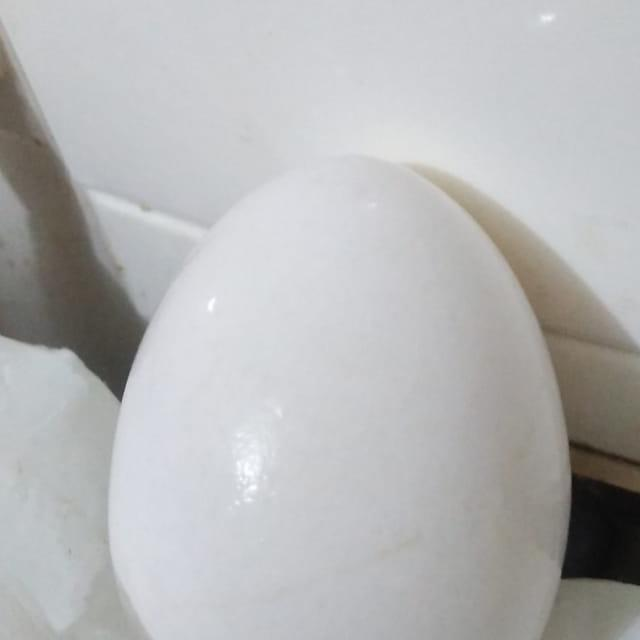egg: (101, 149, 575, 640)
